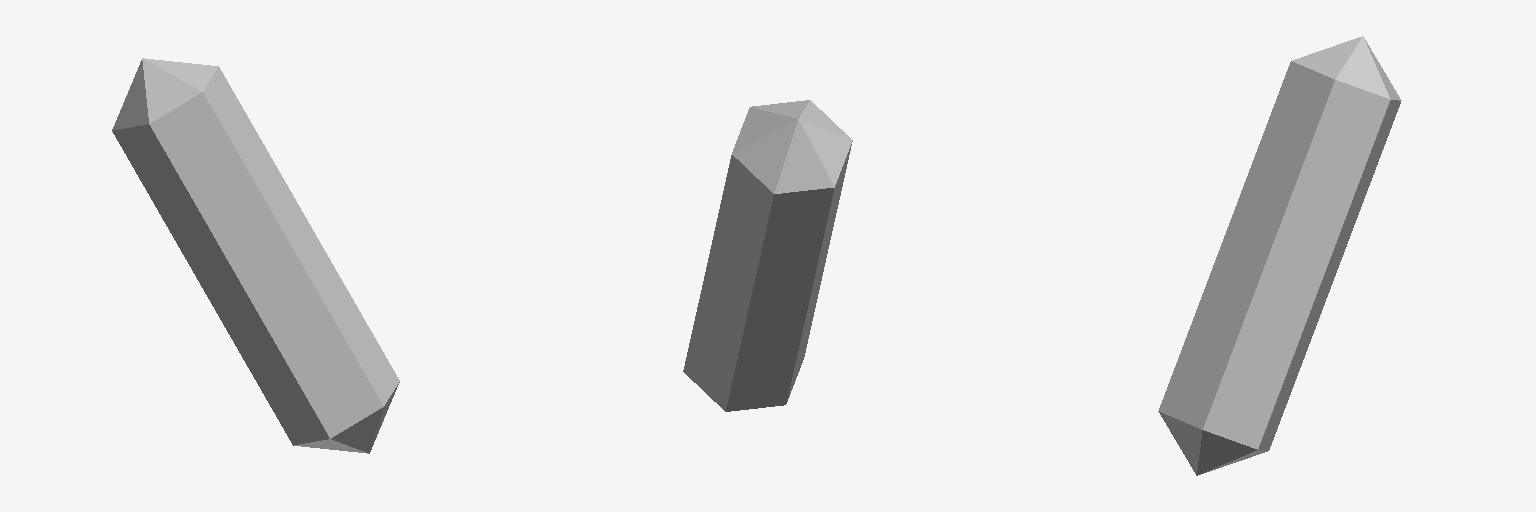
File: hex_crystal_30_45_big.obj
3 views of the same model, side by side, from view 1: azimuth 30°, elevation 25°; view 2: azimuth 150°, elevation 25°; view 3: azimuth 270°, elevation 25° (orthographic).
Visible parts, largest first — view 1: Cylinder; view 2: Cylinder; view 3: Cylinder.
Part boxes in pixels (left/top/right/bottom): Cylinder: left=112, top=58, right=399, bottom=453; Cylinder: left=683, top=100, right=852, bottom=411; Cylinder: left=1158, top=36, right=1401, bottom=475.
Bounding box in the file's own units: 1.94 × 3.25 × 1.94.